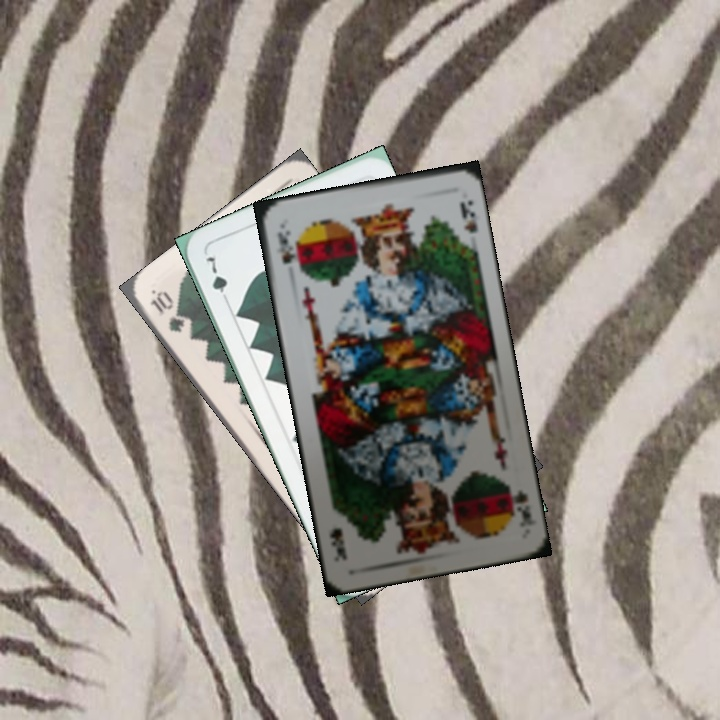G10: (146, 287, 188, 336)
G7: (201, 252, 233, 308)
SK: (502, 480, 534, 524), (273, 226, 298, 267)
